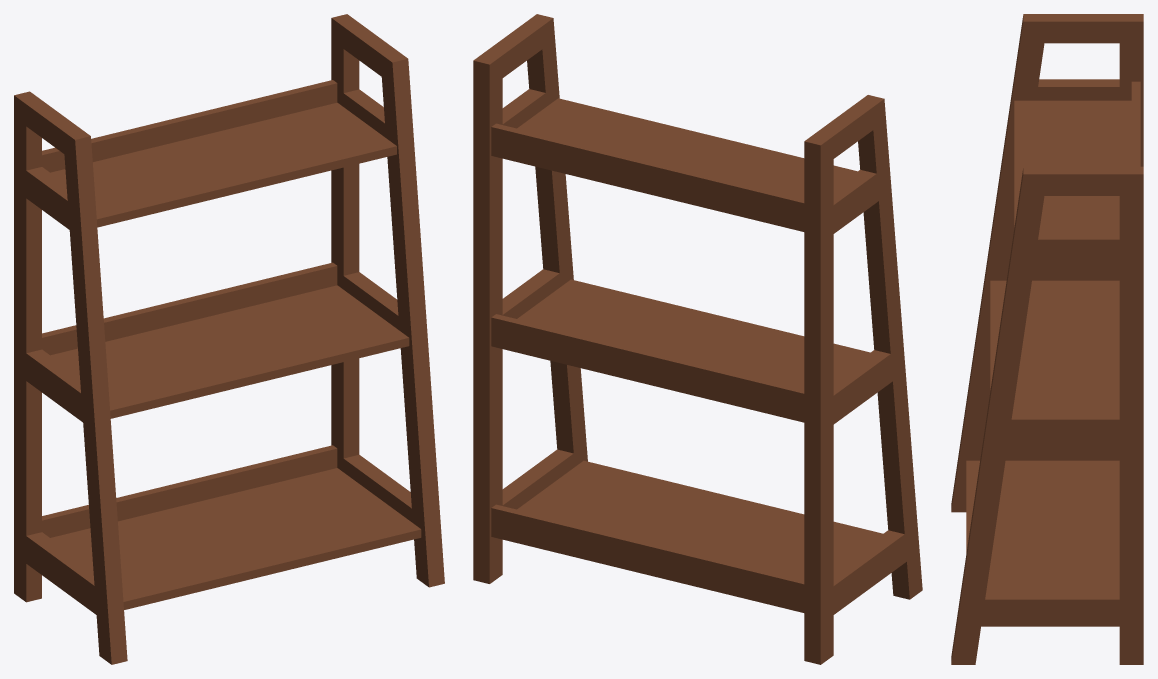
File: 675_ラダーシェルフ.glb
The picture shows the model from 3 angles, left to right: view 1: azimuth 30°, elevation 25°; view 2: azimuth 150°, elevation 25°; view 3: azimuth 270°, elevation 25°; orthographic projection. The views are drawn at different scales.
Parts seen in each view (by area): view 1: Body; view 2: Body; view 3: Body.
Boxes of the visible parts, <box> form: Body: <box>14,14,444,664</box>; Body: <box>473,14,922,664</box>; Body: <box>951,14,1143,664</box>.
Bounding box in the file's own units: 0.63 × 0.9 × 0.32.
